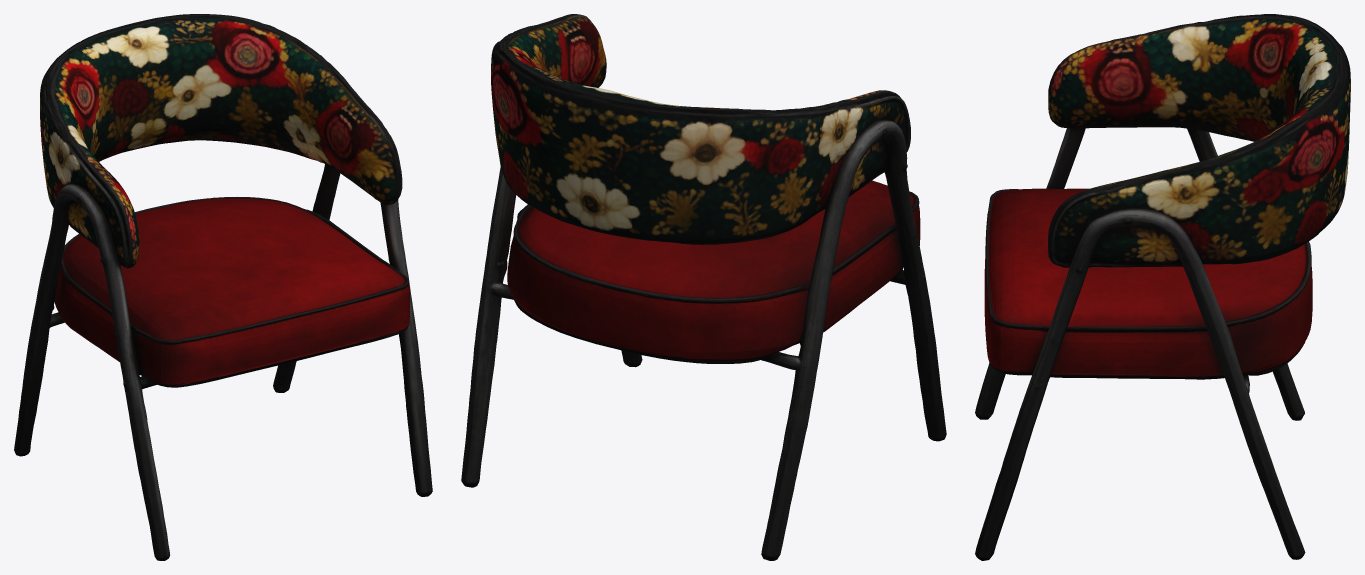
The picture shows the model from 3 angles, left to right: view 1: azimuth 30°, elevation 25°; view 2: azimuth 150°, elevation 25°; view 3: azimuth 270°, elevation 25°; orthographic projection. The views are drawn at different scales.
Parts seen in each view (by area): view 1: world; view 2: world; view 3: world.
Boxes of the visible parts, box(x1,y1,x2,y2) form: world: box(14, 14, 432, 560); world: box(461, 14, 946, 560); world: box(975, 14, 1350, 560).
Bounding box in the file's own units: 0.824 × 1 × 0.8073.
1 material, 1 textured.
